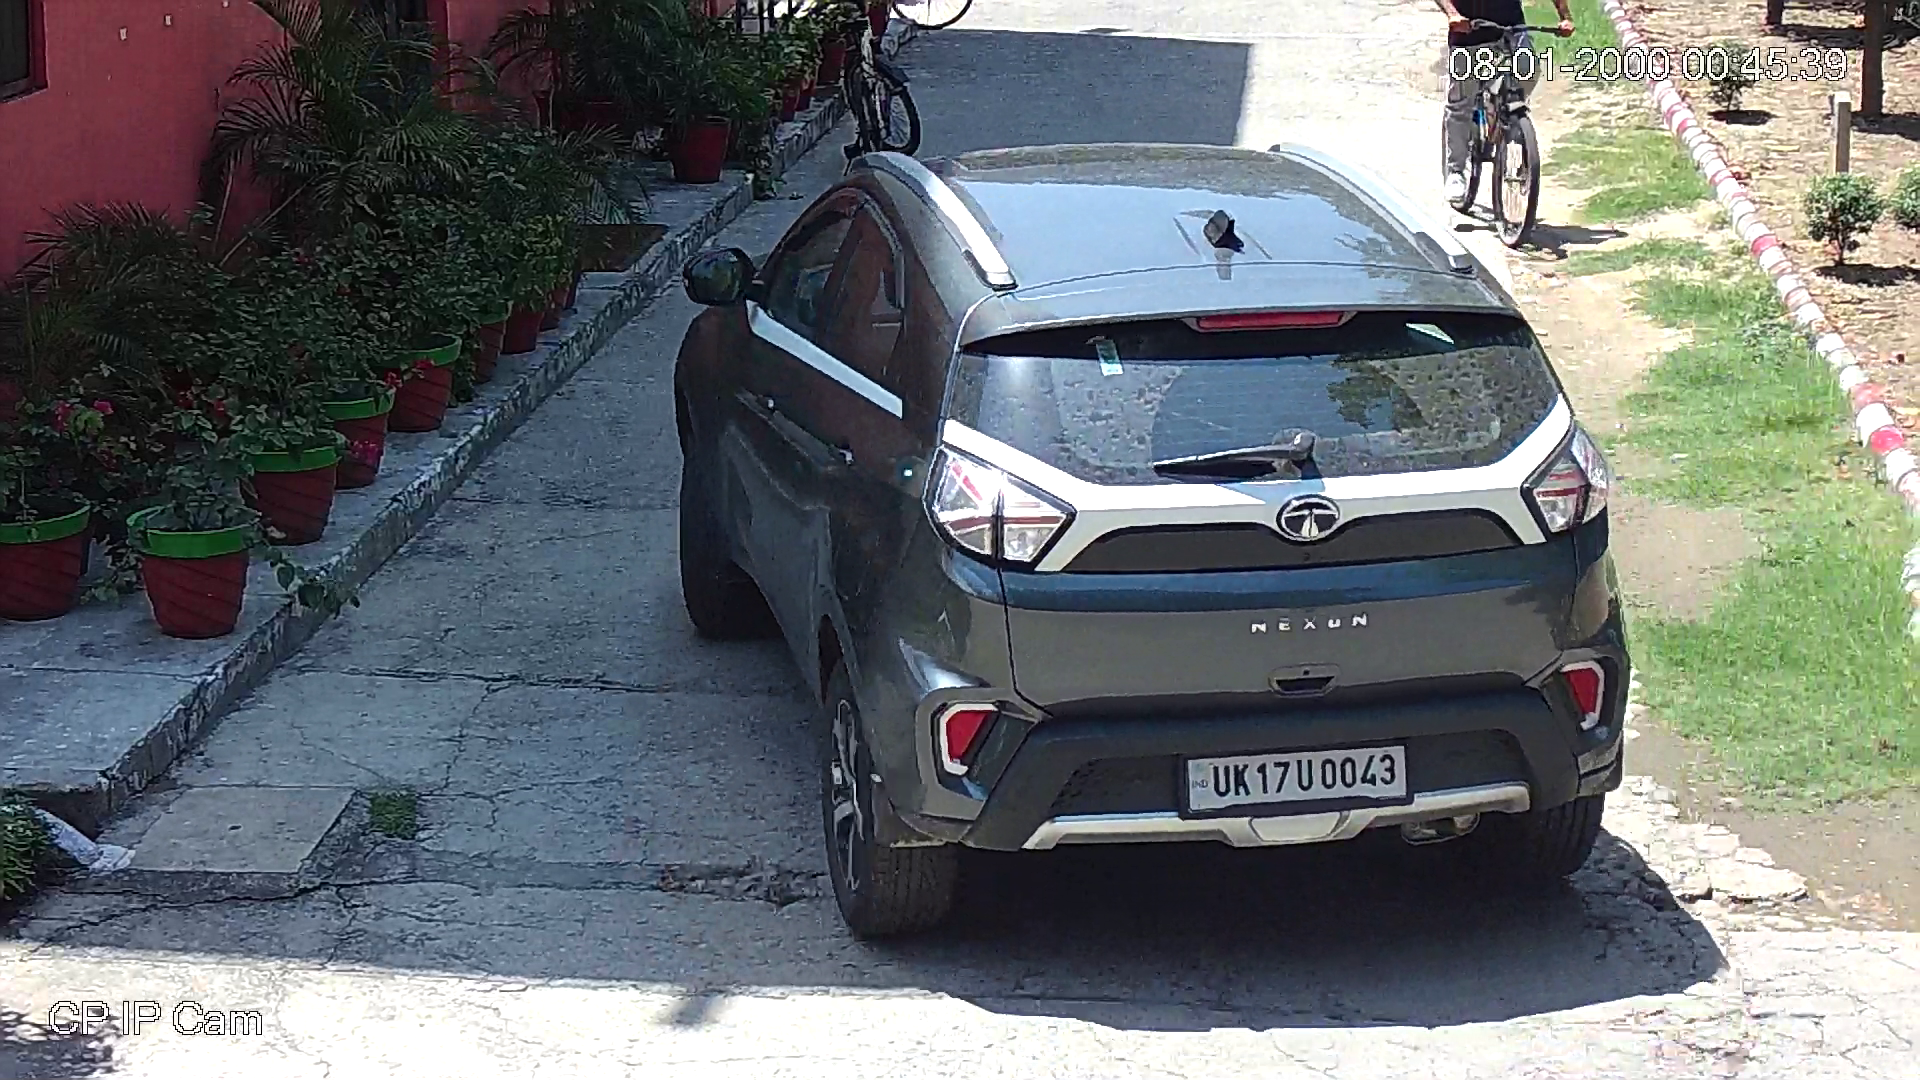plate: (1194, 749, 1401, 810)
